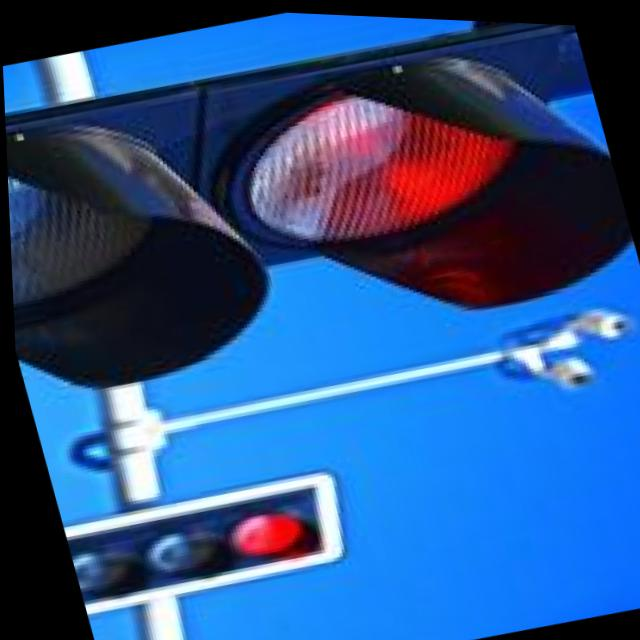red_light: (194, 7, 613, 306), (192, 395, 359, 619)
